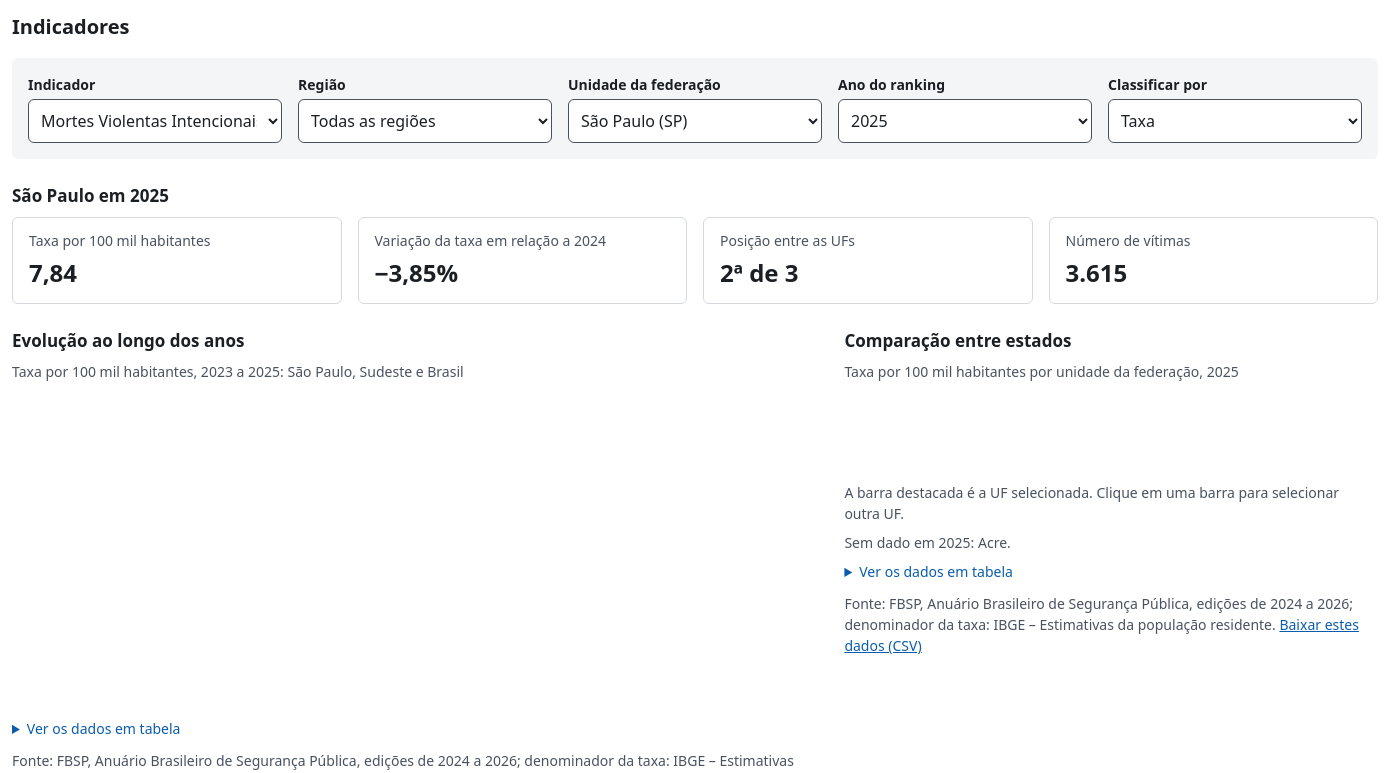
Test: a região restringe as UFs e o ranking e leva a uma UF dela
This screenshot has width=1390, height=773.
Expected: the heading "São Paulo em 2025" is shown, [12,184,169,207]
Select "Nordeste" in the dropdown labelled "Região" at (425,121), box [298,99,552,143]
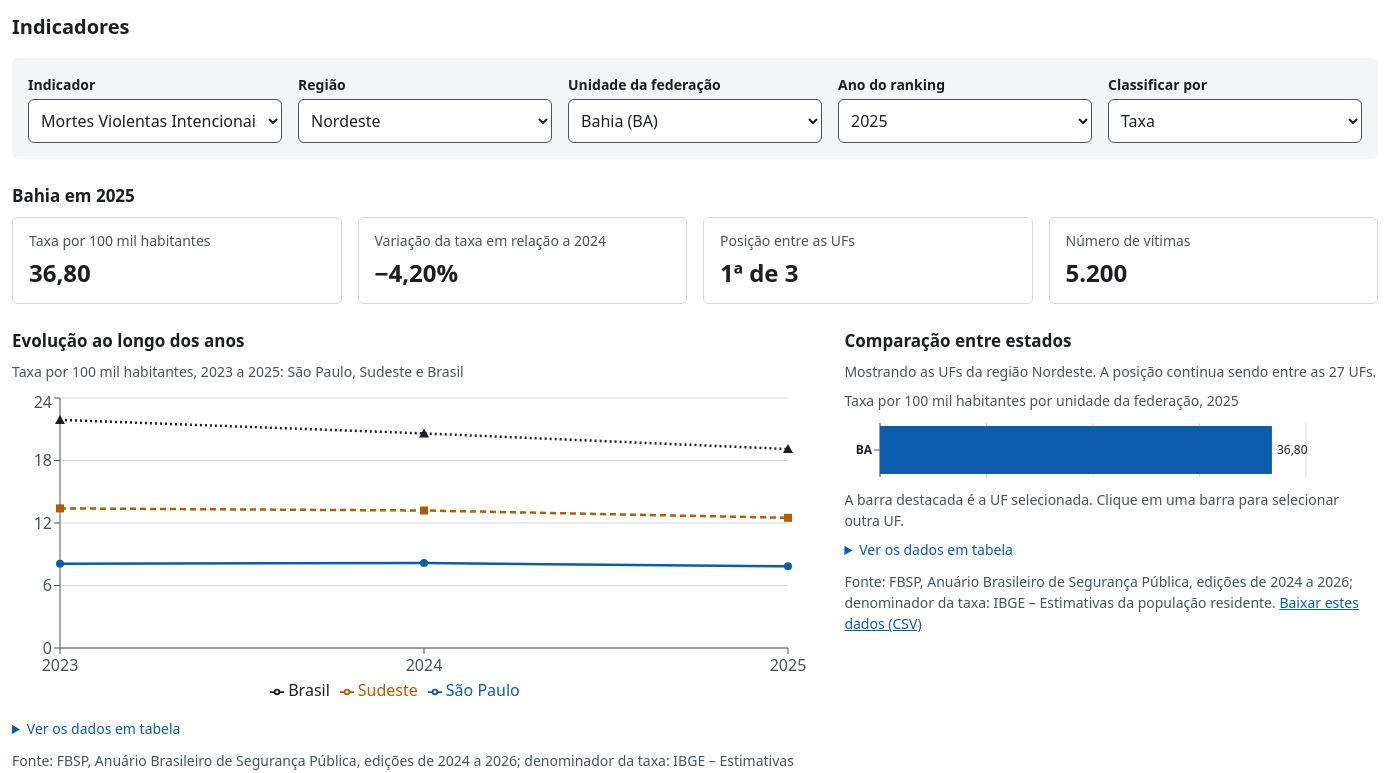
Expected: the dropdown labelled "Unidade da federação" shows "Bahia (BA)", [568,99,822,143]
Expected: the text "Mostrando as UFs da região Nordeste" is shown, [844,361,1378,382]
